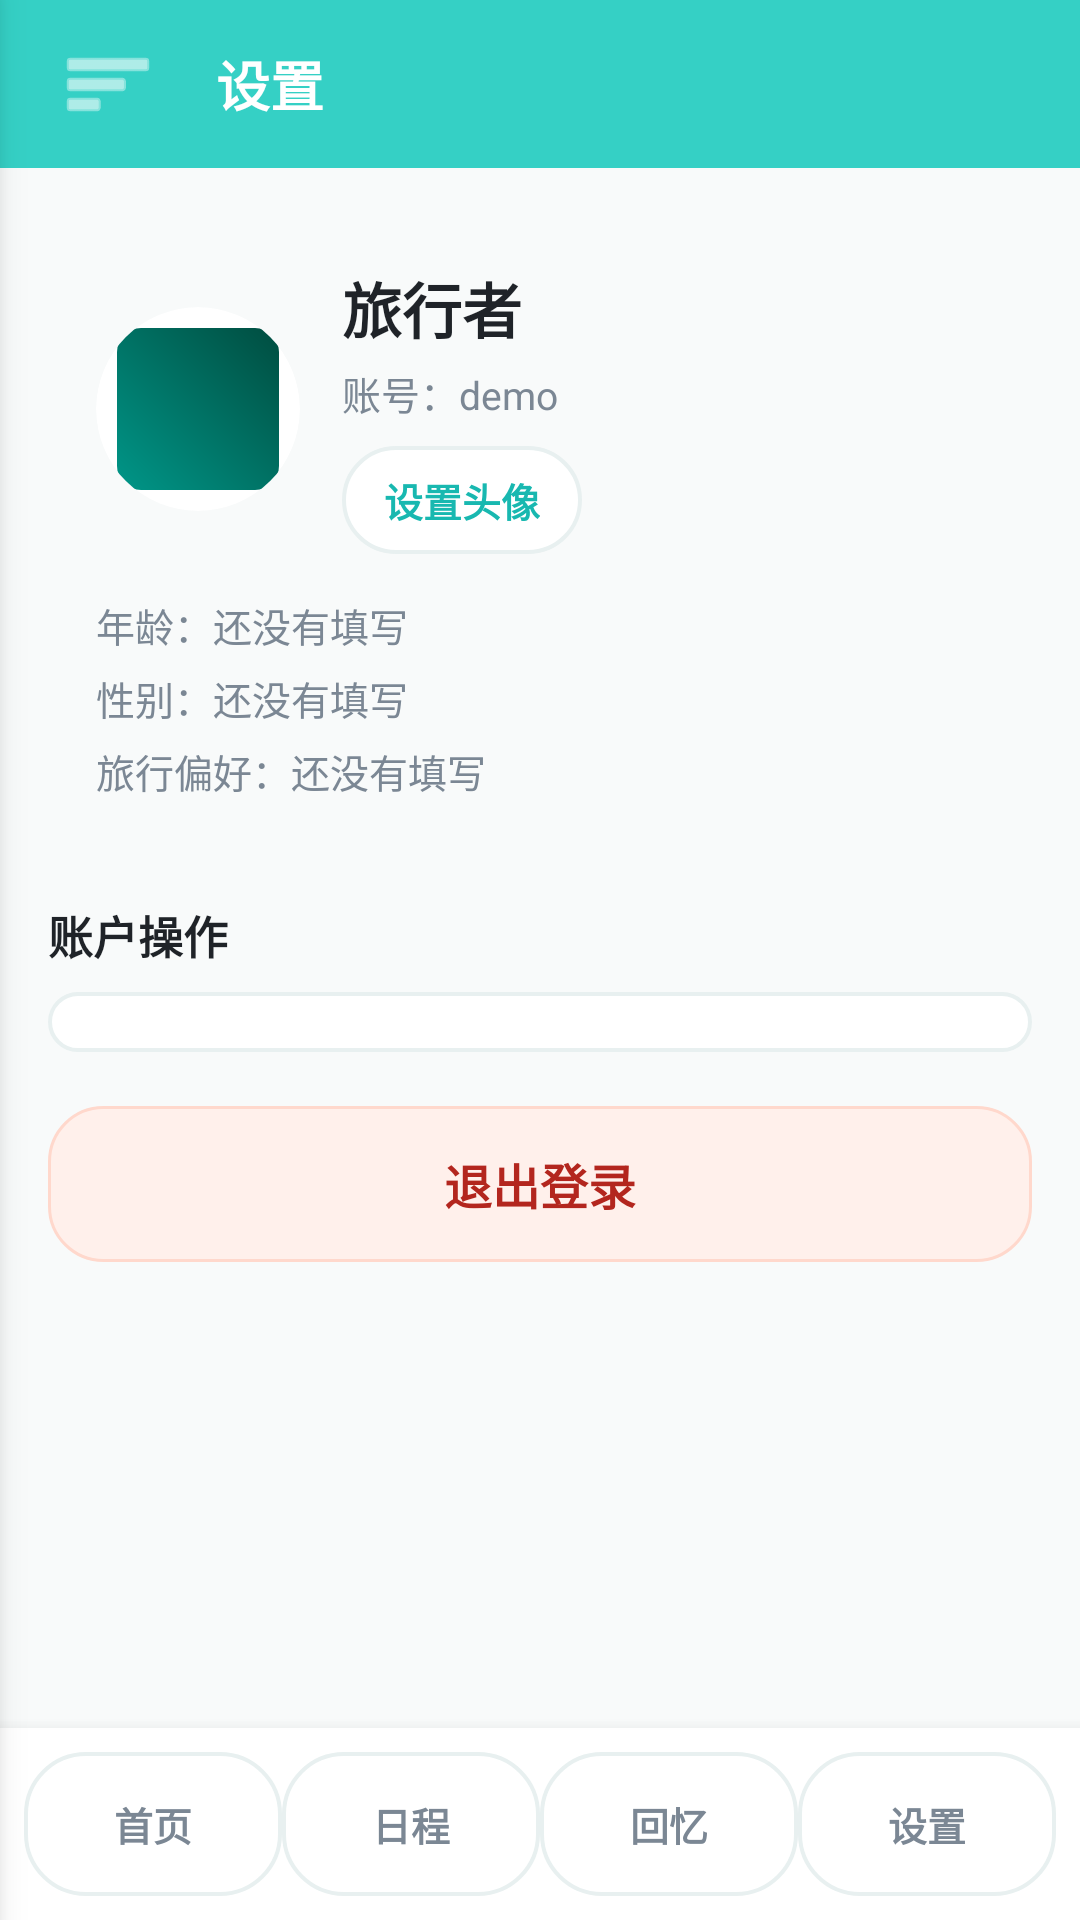

Screen size 1080×1920. Icon name, then its box in pixels as (x1, y1, x2, y2):
打开菜单: (67, 58, 149, 111)
